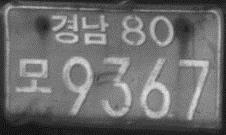0: (148, 15, 176, 48)
3: (99, 54, 133, 119)
6: (139, 57, 171, 118)
7: (177, 57, 212, 121)
8: (119, 13, 146, 48)
9: (61, 54, 95, 118)
경남_O: (50, 13, 110, 46)
모: (15, 54, 52, 95)
